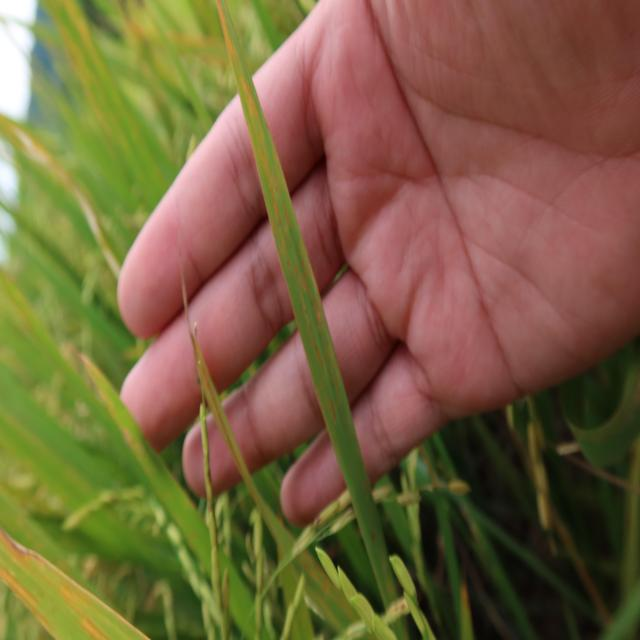Dom soc vi khuan: (215, 0, 267, 168)
